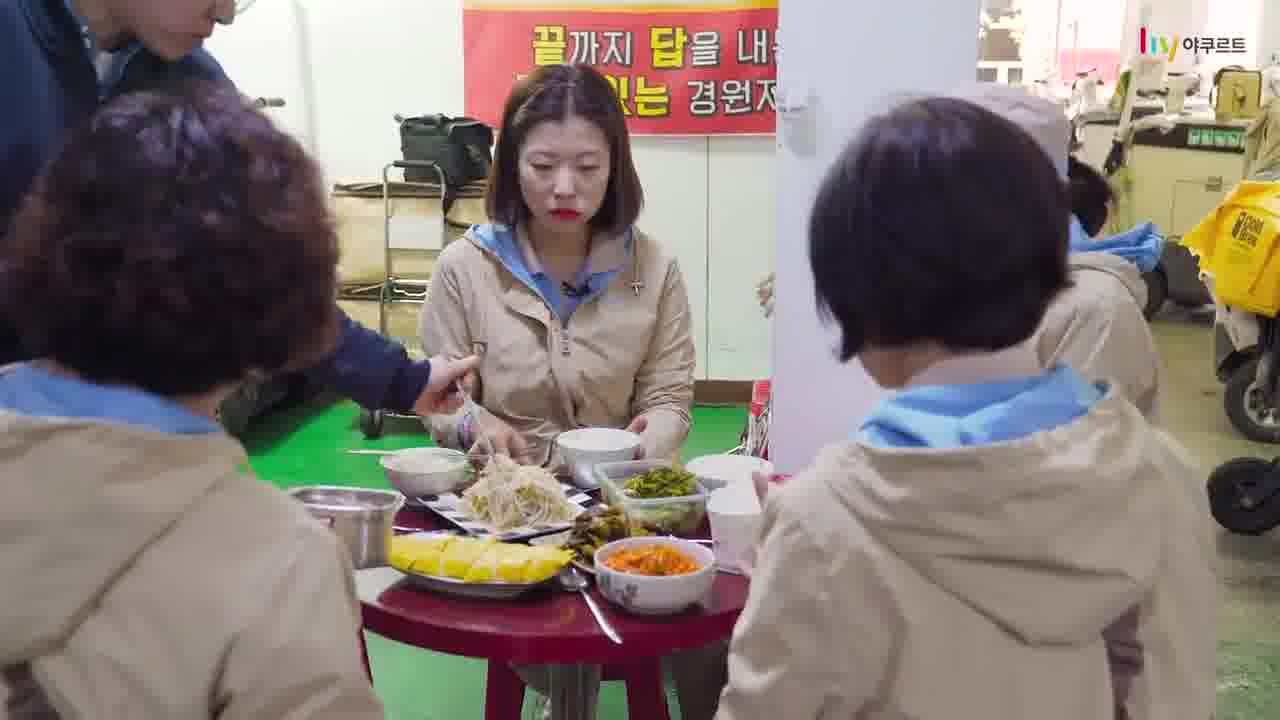Yakurut: (694, 136, 1245, 720), (1, 77, 426, 720), (431, 53, 690, 458)
